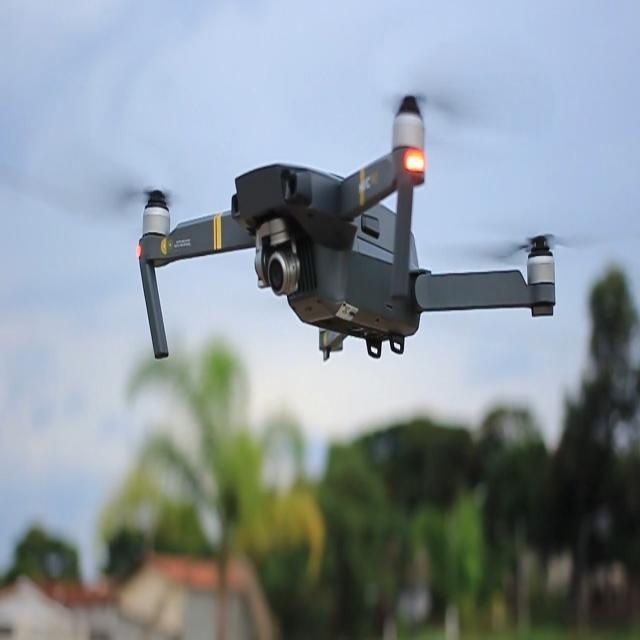Drone: (136, 96, 556, 364)
